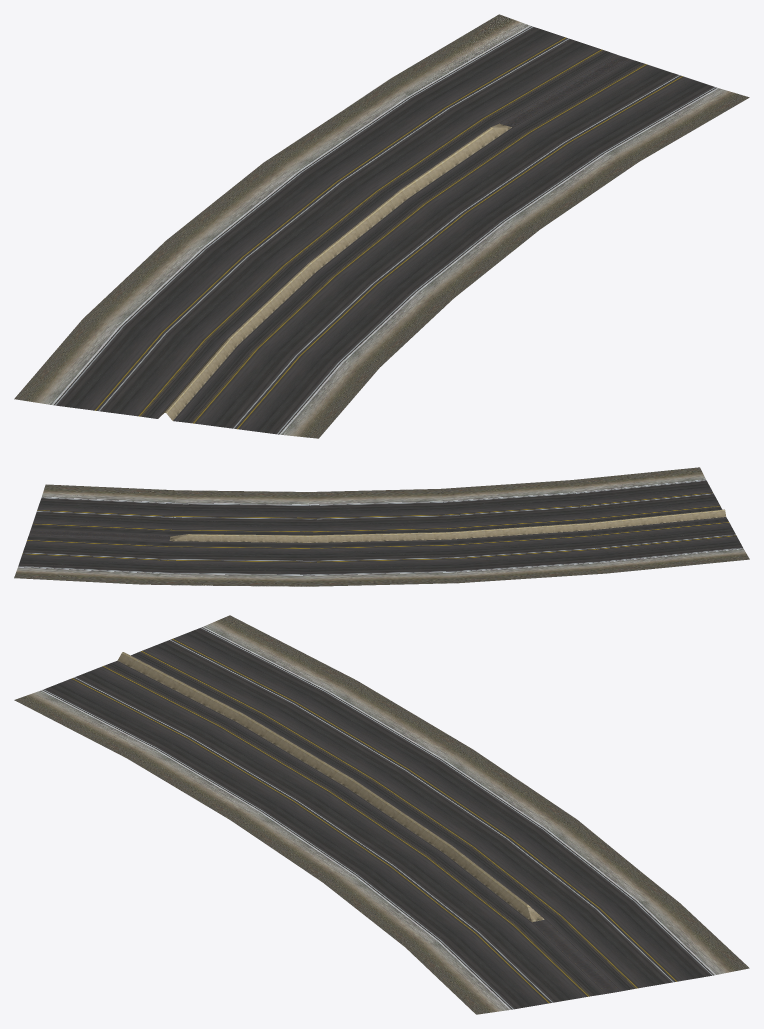
File: vegasnroad096b.obj
3 renders of one model, top to bottom at view 1: azimuth 30°, elevation 25°; view 2: azimuth 150°, elevation 25°; view 3: azimuth 270°, elevation 25°, orthographic. The views are drawn at different scales.
Parts seen in each view (by area): view 1: vegasNroad096b; view 2: vegasNroad096b; view 3: vegasNroad096b.
Part boxes in pixels (box(x1,y1,x2,y2)): vegasNroad096b: box(14, 14, 749, 438); vegasNroad096b: box(14, 467, 749, 586); vegasNroad096b: box(14, 615, 749, 1014).
Bounding box in the file's own units: 126 × 2.06 × 99.96.
4 materials, 4 textured.
